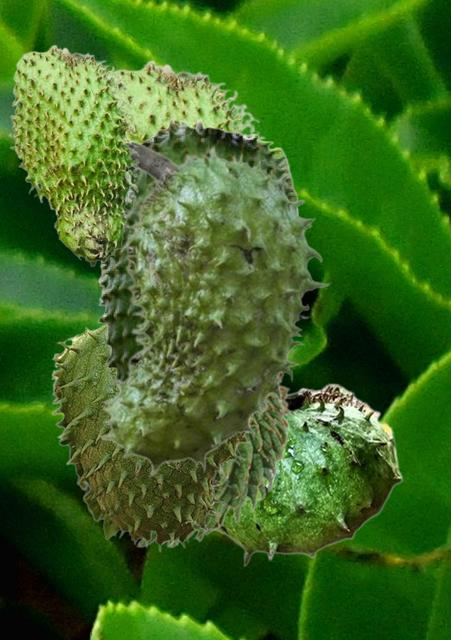guyabano: (98, 140, 330, 477), (97, 118, 298, 386), (51, 325, 269, 552), (205, 381, 402, 566), (8, 44, 140, 266), (135, 373, 291, 547), (109, 59, 266, 141)
